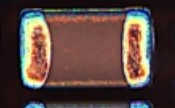COMP: (10, 4, 161, 94)
GAP: (20, 55, 151, 108)
